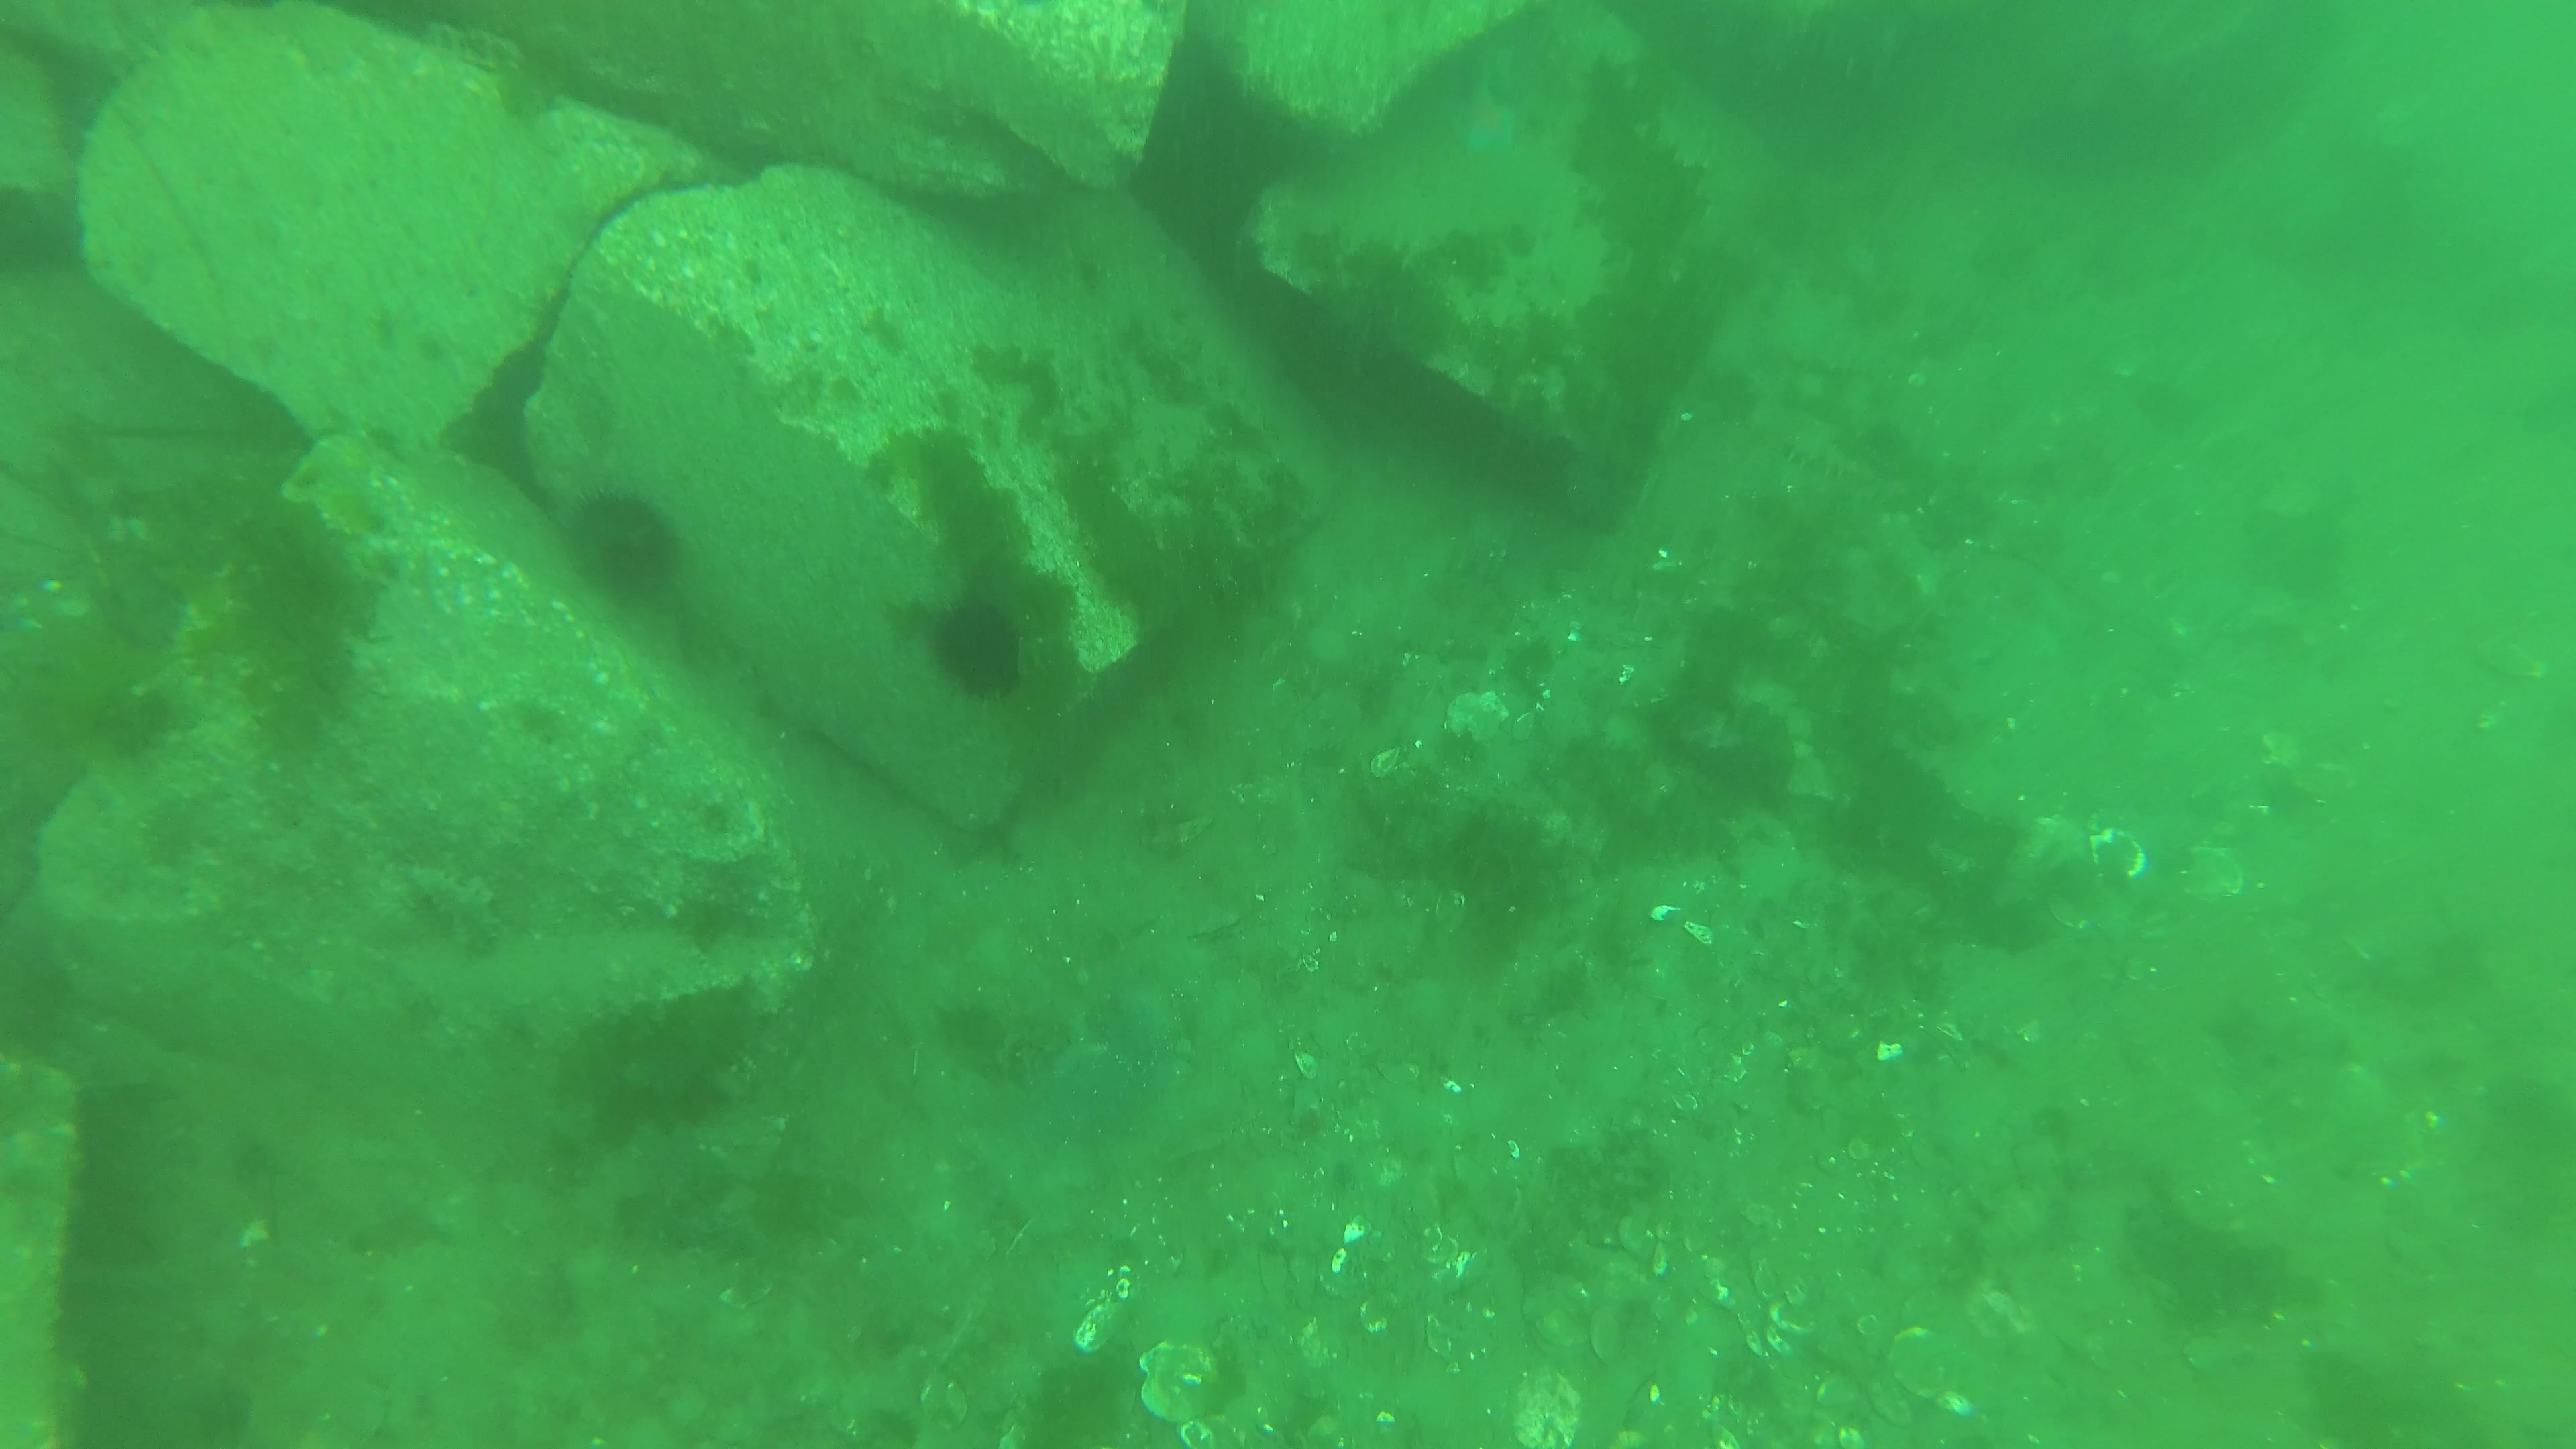echinus: (548, 479, 686, 605), (911, 582, 1035, 708)
starfish: (1435, 78, 1532, 165)
